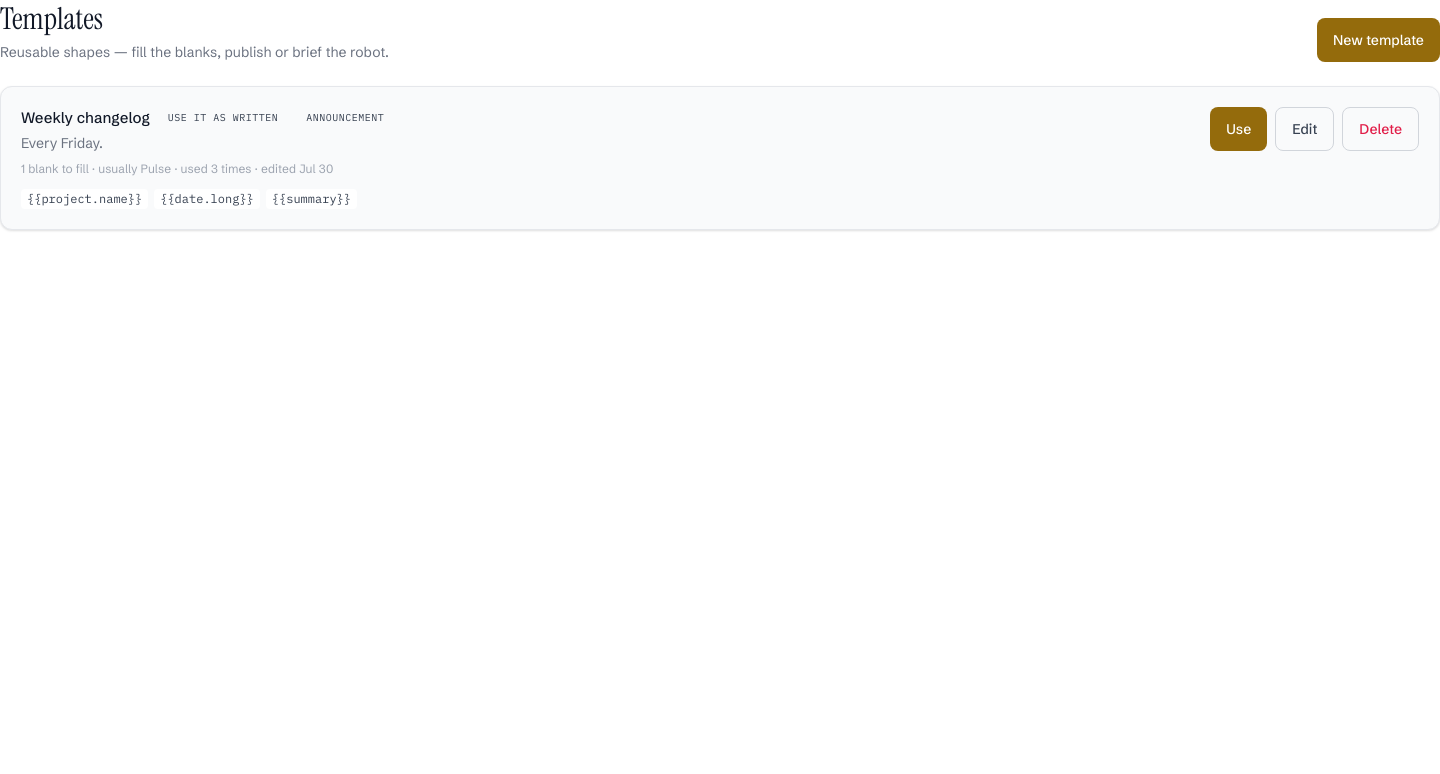
Scenario: the editor › blocks a variable name that shadows a built-in
The width and height of the screenshot is (1440, 774).
Click the button "Edit" at point(1305, 128), box [1275, 106, 1334, 150]
(page scrolled)
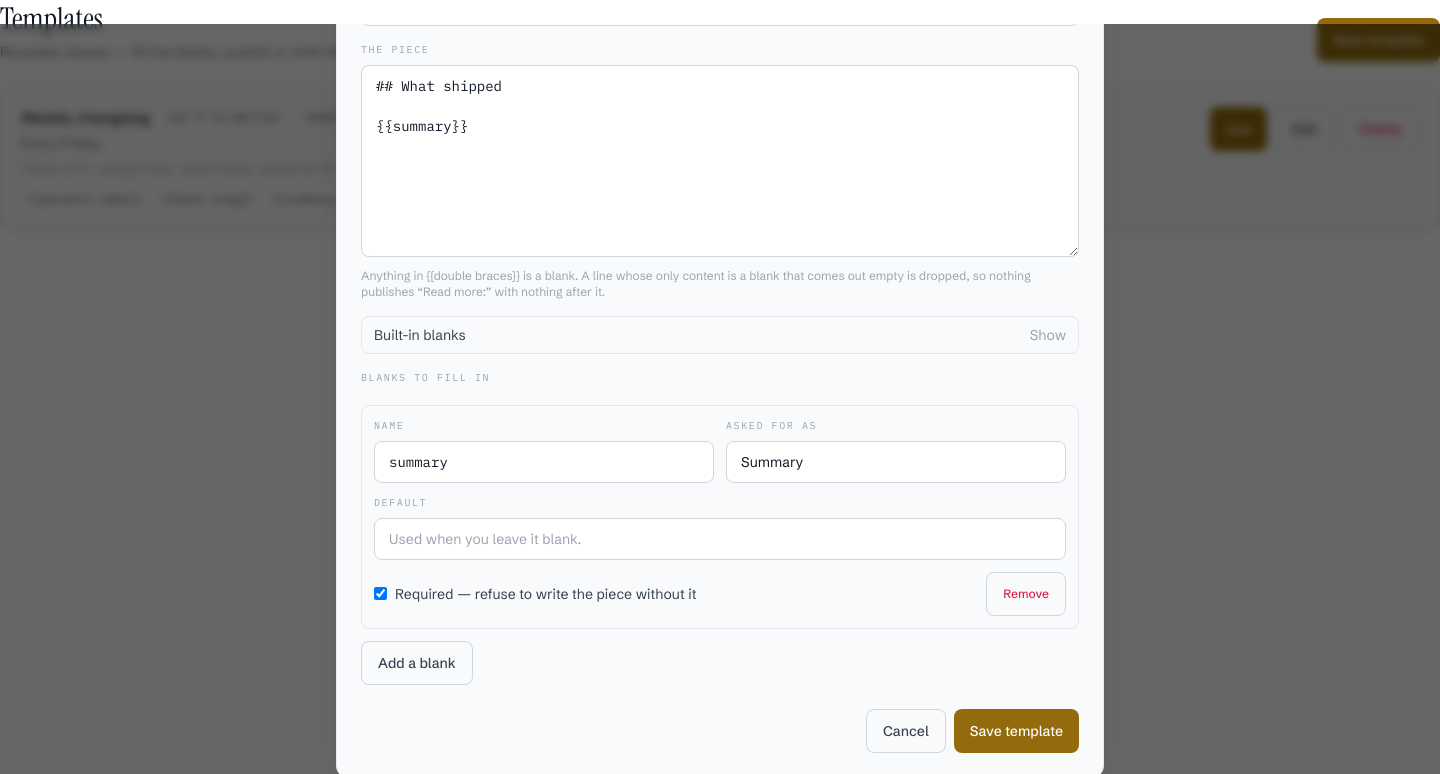
Click the button "Add a blank" at point(417, 662), box [361, 640, 473, 684]
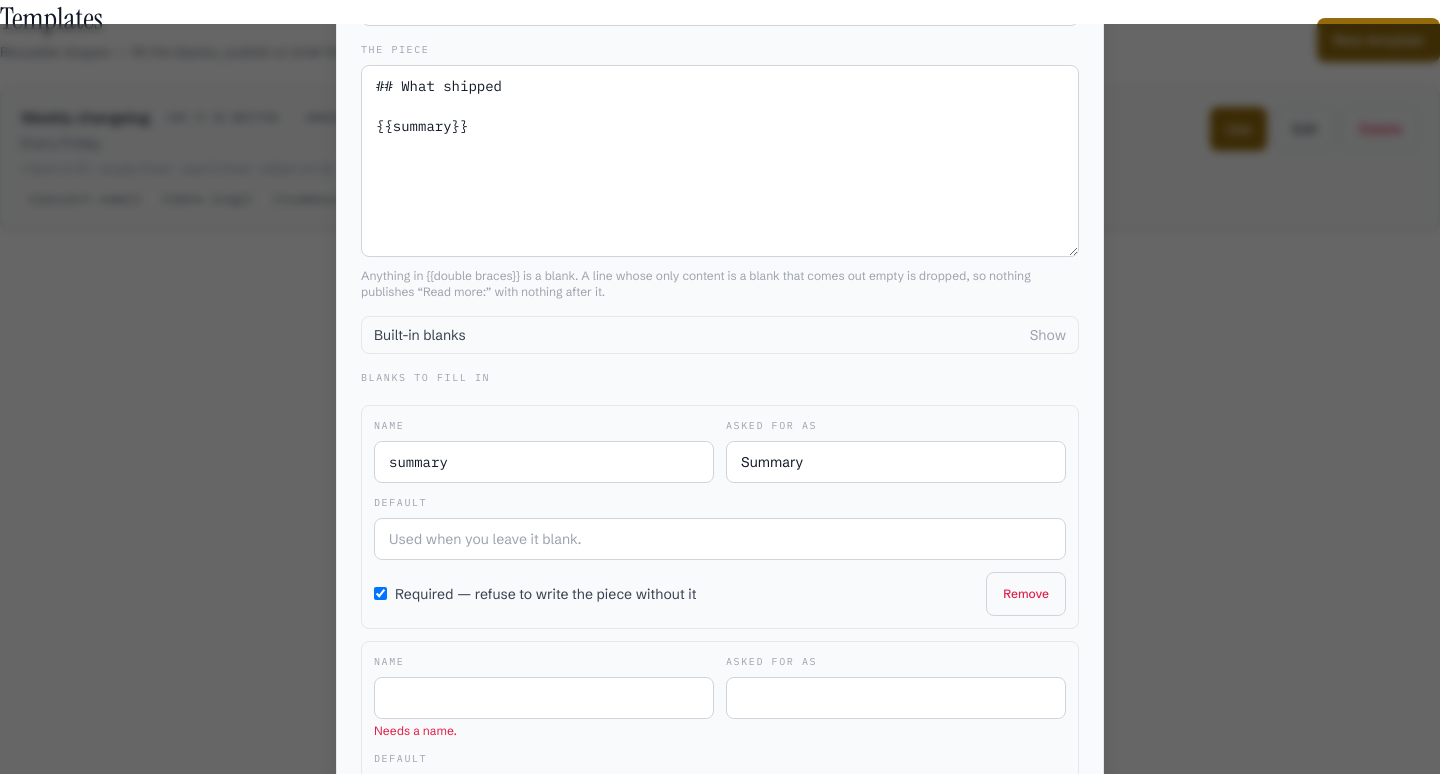
Type "project" into the 2nd field labelled "Name" at point(544, 698), box [374, 676, 714, 718]
(page scrolled)
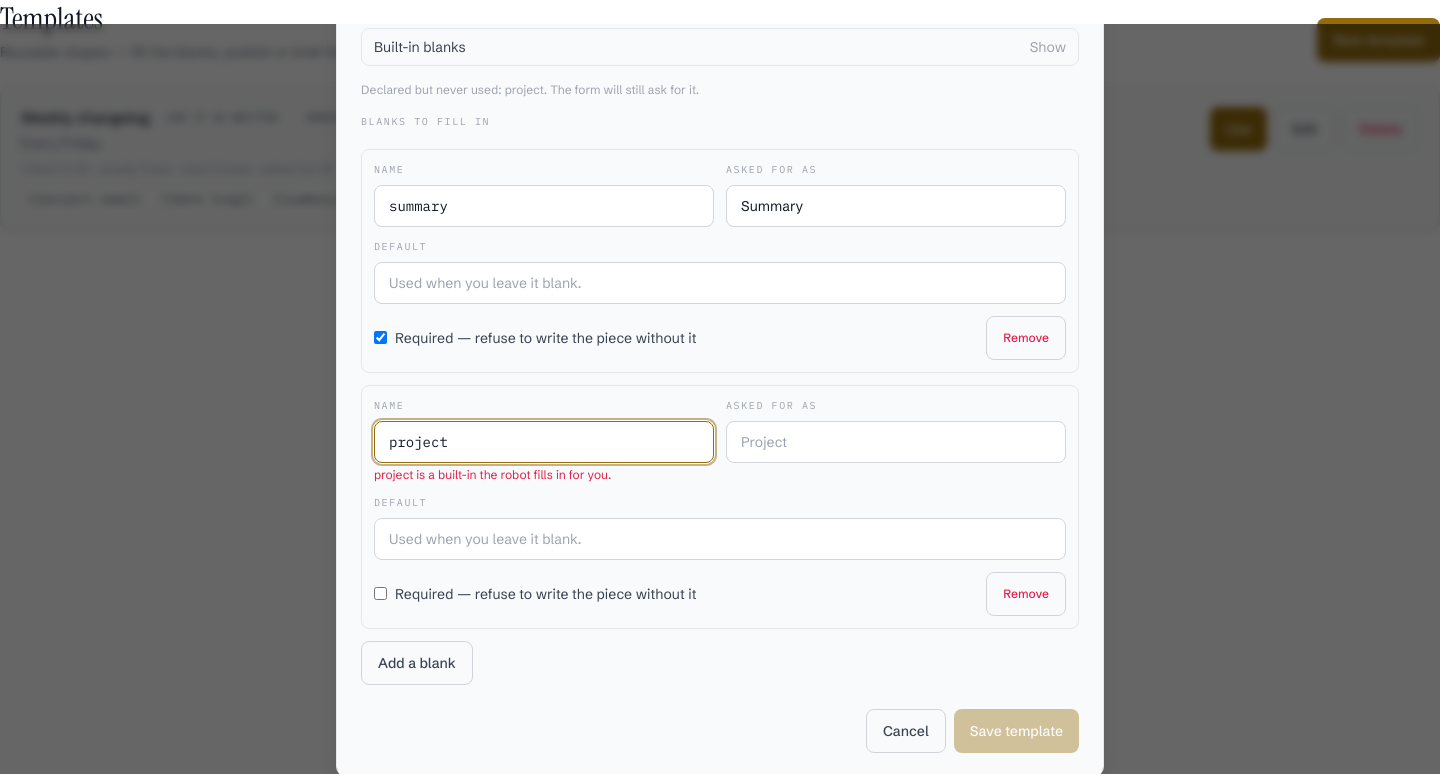
Now the text "project is a built-in the robot fills in for you." is shown, box [374, 466, 611, 482]
Now the button "Save template" is disabled, box [954, 708, 1079, 752]
